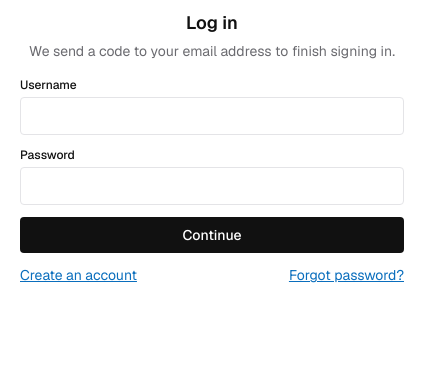
Test: Login › offers the confirmation link when the address is unconfirmed
Type "alice" into the field labelled "Username" at (212, 116), box [20, 97, 404, 135]
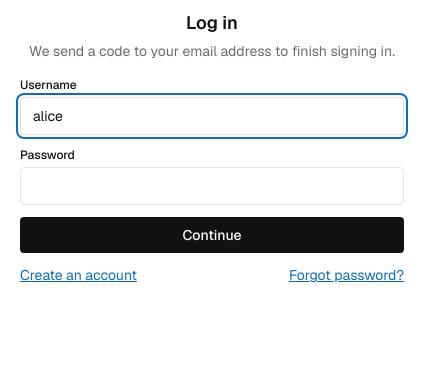
Type "Password123!" into the password field labelled "Password" at (212, 186), box [20, 167, 404, 205]
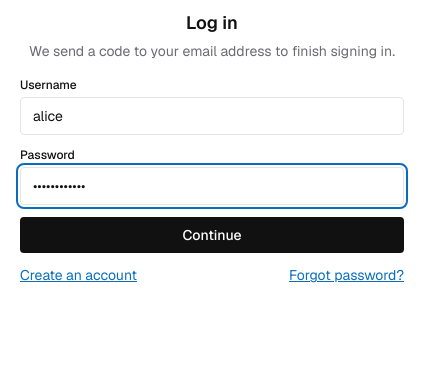
Click the button "Continue" at (212, 235), box [20, 217, 404, 253]
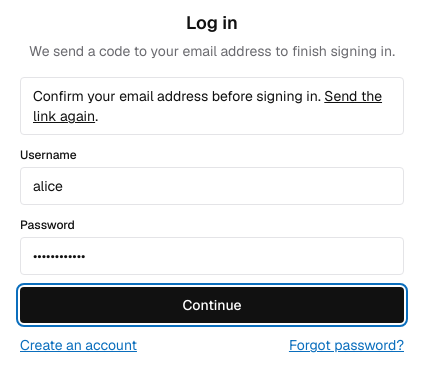
Check: the message shows "Confirm your email address", box [33, 87, 321, 105]
Check: the link "Send the link again" is shown, box [33, 87, 382, 125]
